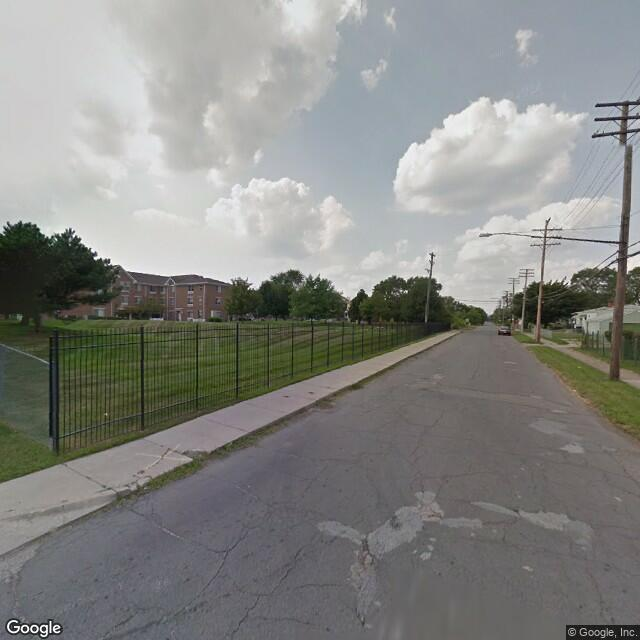litter: (102, 410, 110, 417), (577, 363, 581, 370)
